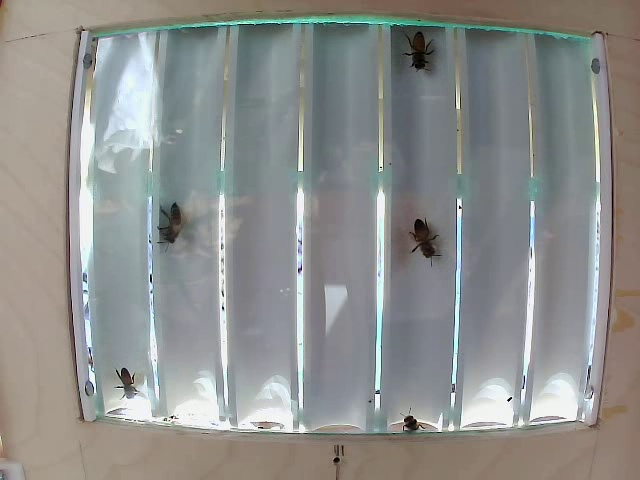bee: (405, 212, 444, 265), (402, 18, 433, 83), (156, 204, 188, 254)
